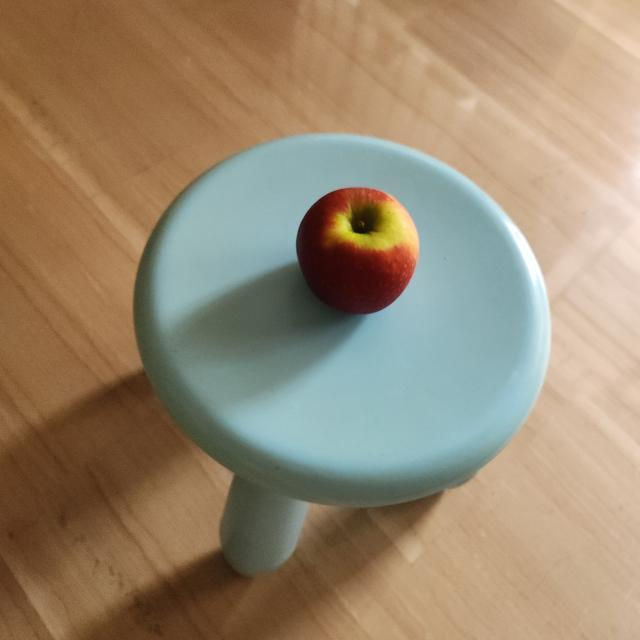apple: (293, 184, 424, 319)
